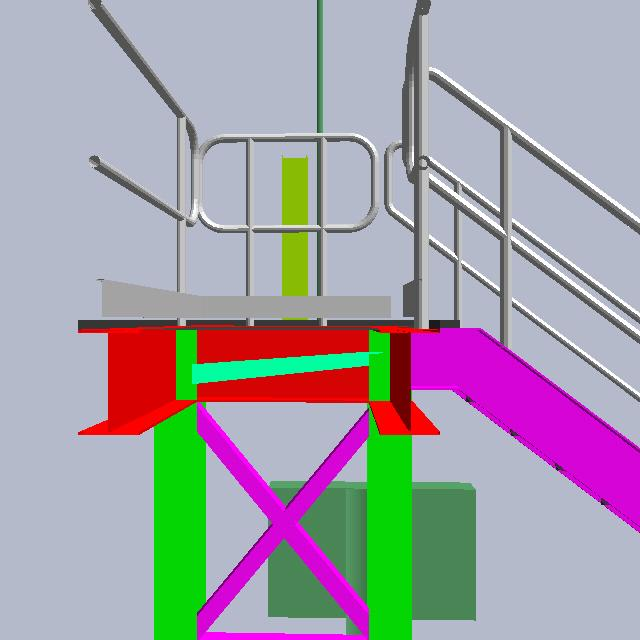Poste: (309, 1, 327, 332)
Soporte: (271, 148, 320, 355)
